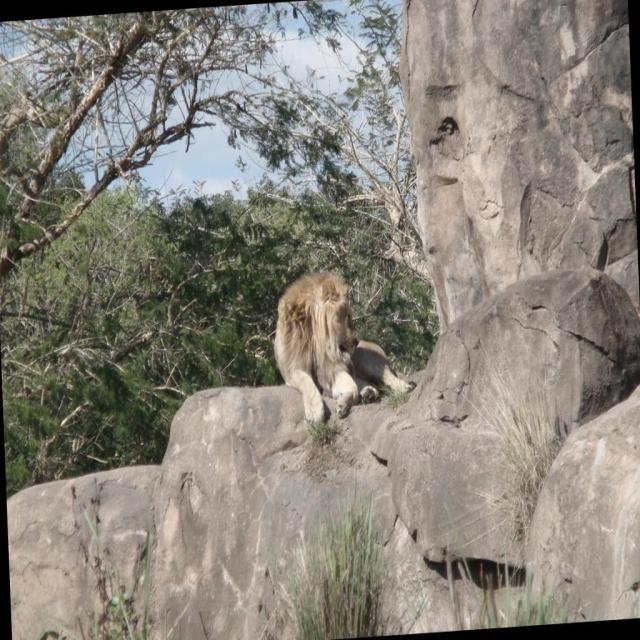Lion: (270, 264, 414, 432)
